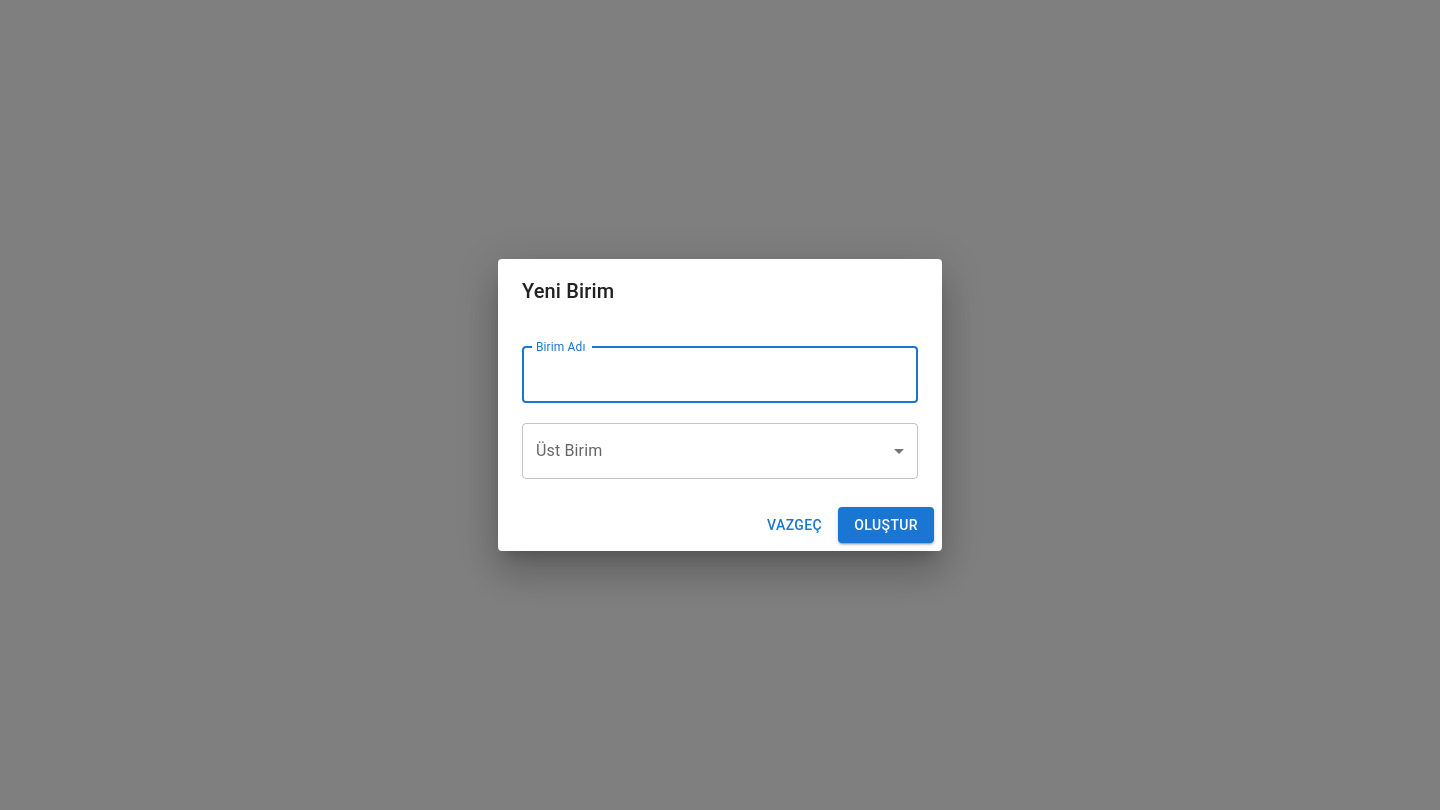
Test: CreateUnitDialog › boş isimle submit edilince validasyon hatasını gösterir
Click the button "Oluştur" at (886, 525), box 838,507 -> 934,543
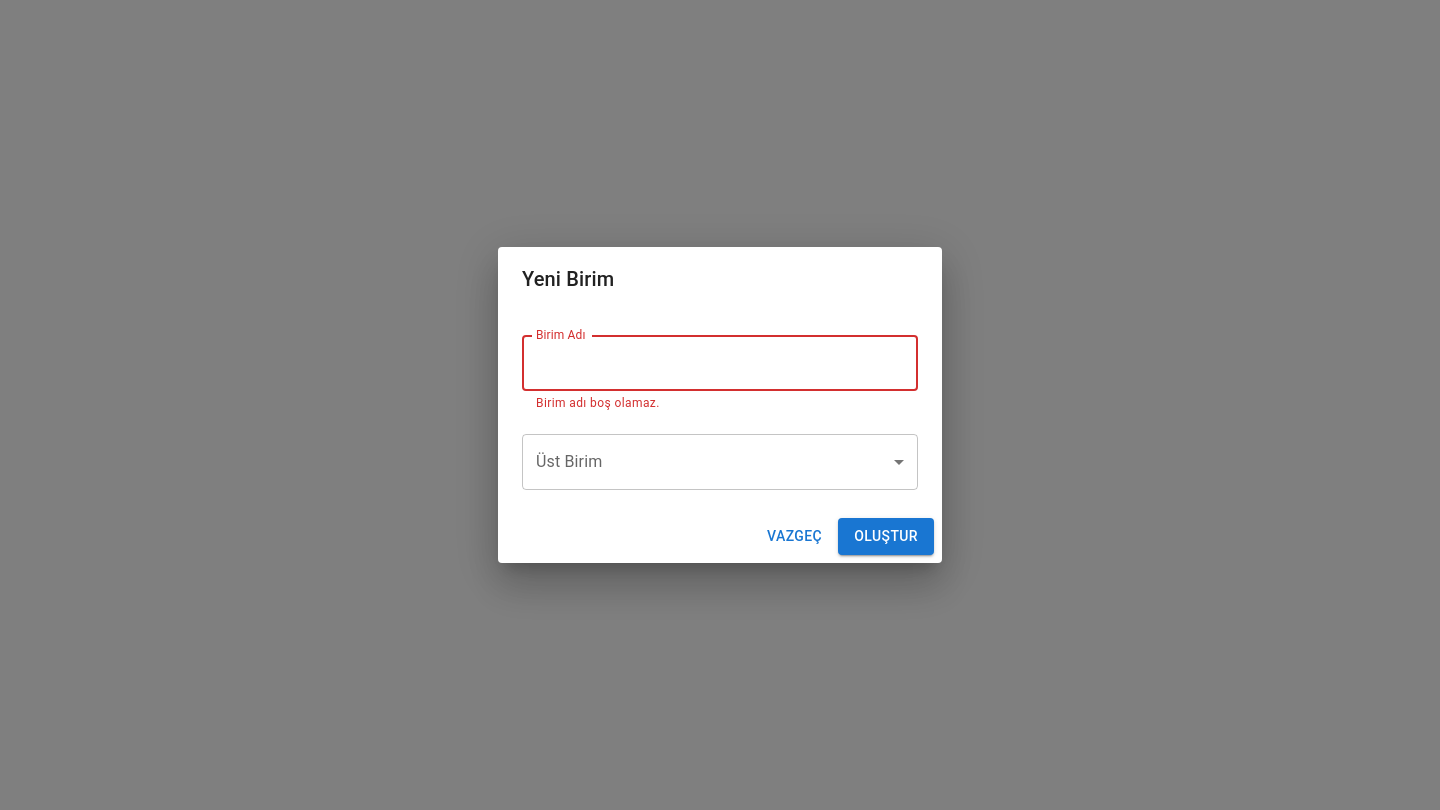
Result: the text "Birim adı boş olamaz." is shown at 536,396 -> 660,410
